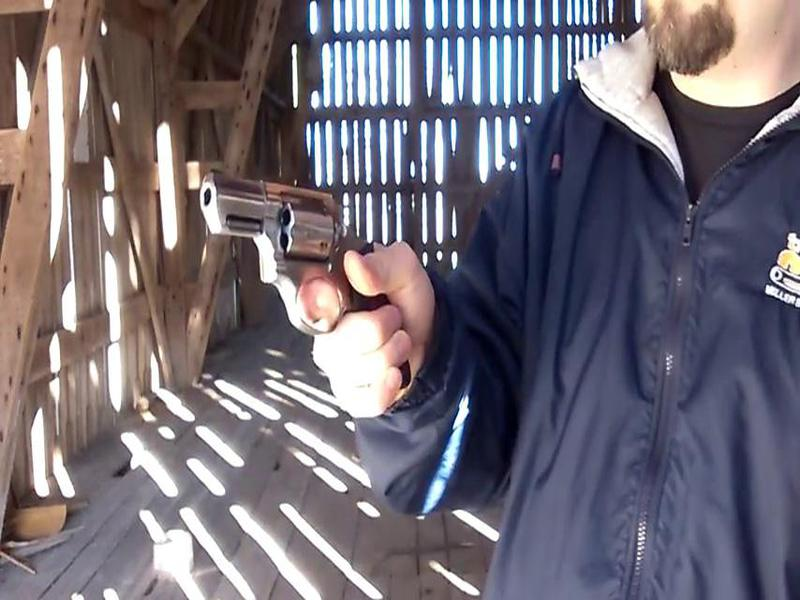Revolver: (193, 154, 397, 340)
